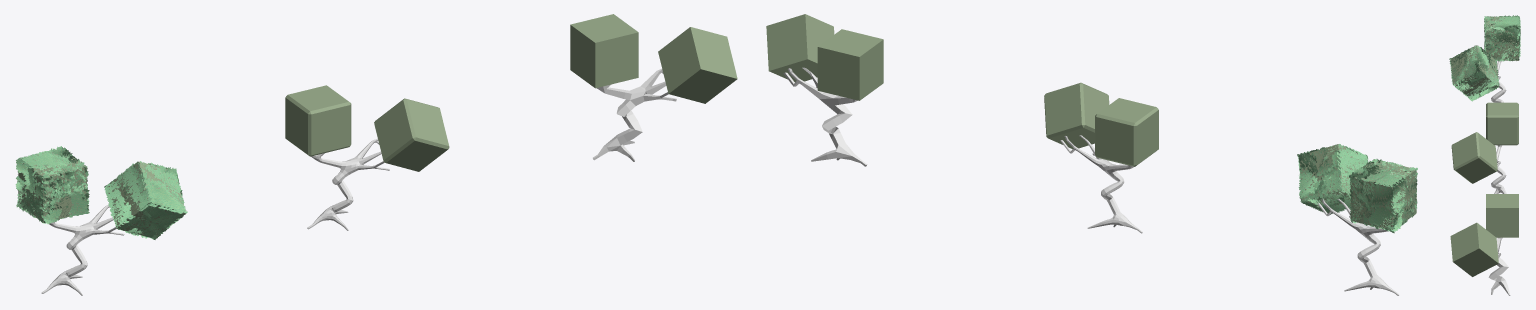
The model's file is trM2.fbx.
3 views of the same model, side by side, from view 1: azimuth 30°, elevation 25°; view 2: azimuth 150°, elevation 25°; view 3: azimuth 270°, elevation 25° (orthographic). The views are drawn at different scales.
Parts seen in each view (by area): view 1: Vert.001, Vert.009, Vert.006; view 2: Vert.009, Vert.001, Vert.006; view 3: Vert.001, Vert.009, Vert.006.
Part boxes in pixels (x1,y1,x2,y2): Vert.001: (15,146,187,295); Vert.009: (570,14,737,161); Vert.006: (285,85,449,230); Vert.009: (766,14,883,166); Vert.001: (1297,144,1417,295); Vert.006: (1044,82,1158,233); Vert.001: (1449,15,1520,102); Vert.009: (1450,194,1518,295); Vert.006: (1451,102,1518,193).
Bounding box in the file's own units: 4657 × 887 × 664.
